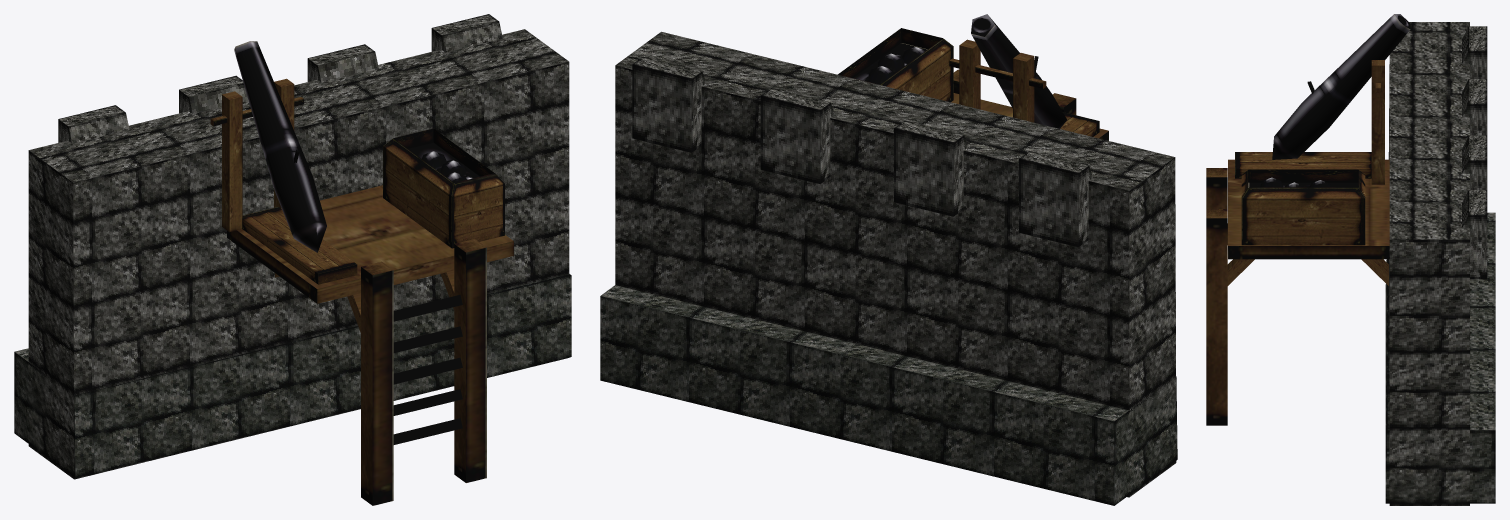
The model's file is StoneWall03.obj.
3 views of the same model, side by side, from view 1: azimuth 30°, elevation 25°; view 2: azimuth 150°, elevation 25°; view 3: azimuth 270°, elevation 25° (orthographic). The views are drawn at different scales.
Visible parts, largest first — view 1: Mesh_0, Mesh_1, Mesh_2; view 2: Mesh_0, Mesh_2, Mesh_1; view 3: Mesh_0, Mesh_1, Mesh_2.
Boxes of the visible parts, bbox=[...] form: Mesh_0: bbox=[28, 14, 569, 479]; Mesh_1: bbox=[210, 41, 513, 505]; Mesh_2: bbox=[14, 273, 571, 477]; Mesh_0: bbox=[615, 31, 1176, 497]; Mesh_2: bbox=[600, 285, 1177, 505]; Mesh_1: bbox=[838, 14, 1108, 140]; Mesh_0: bbox=[1388, 22, 1487, 505]; Mesh_1: bbox=[1206, 14, 1410, 425]; Mesh_2: bbox=[1385, 212, 1495, 503].
Bounding box in the file's own units: 3.98 × 3.01 × 2.24.
Materials: 3 (3 with a texture image).
